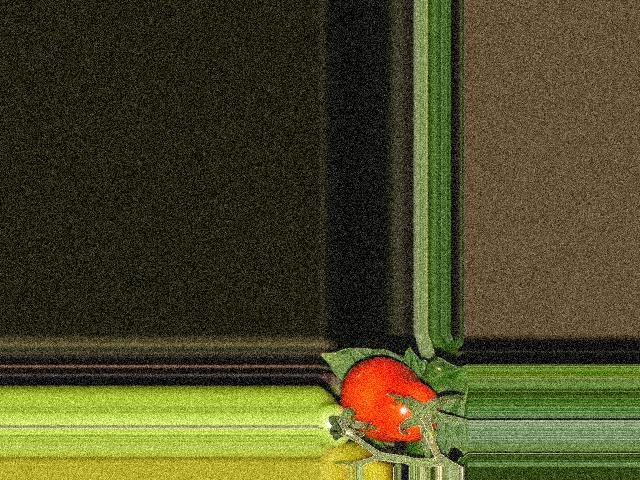tomato: (341, 356, 439, 441)
